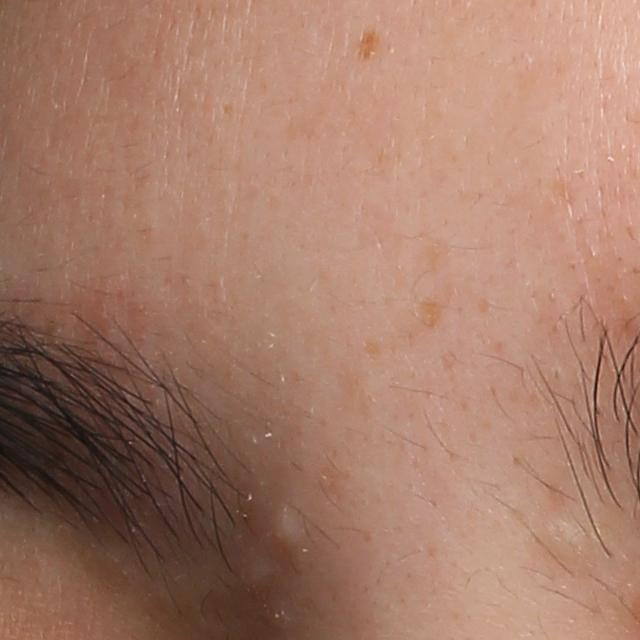comedo: (268, 507, 305, 547)
